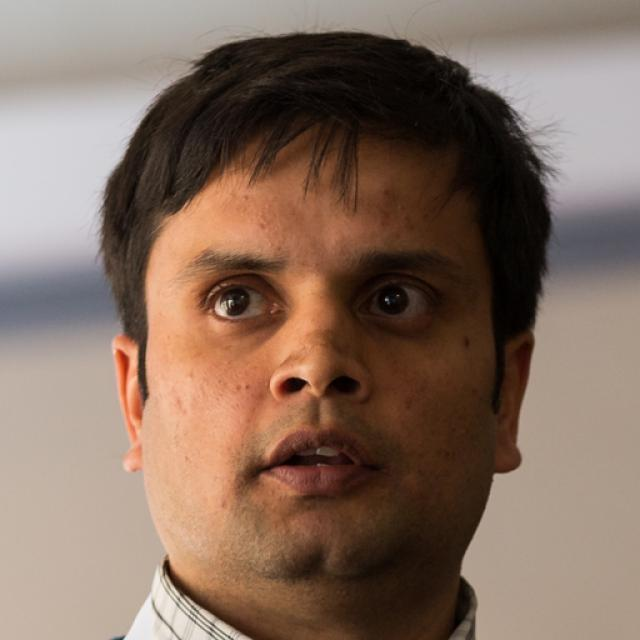fear: (144, 138, 500, 578)
